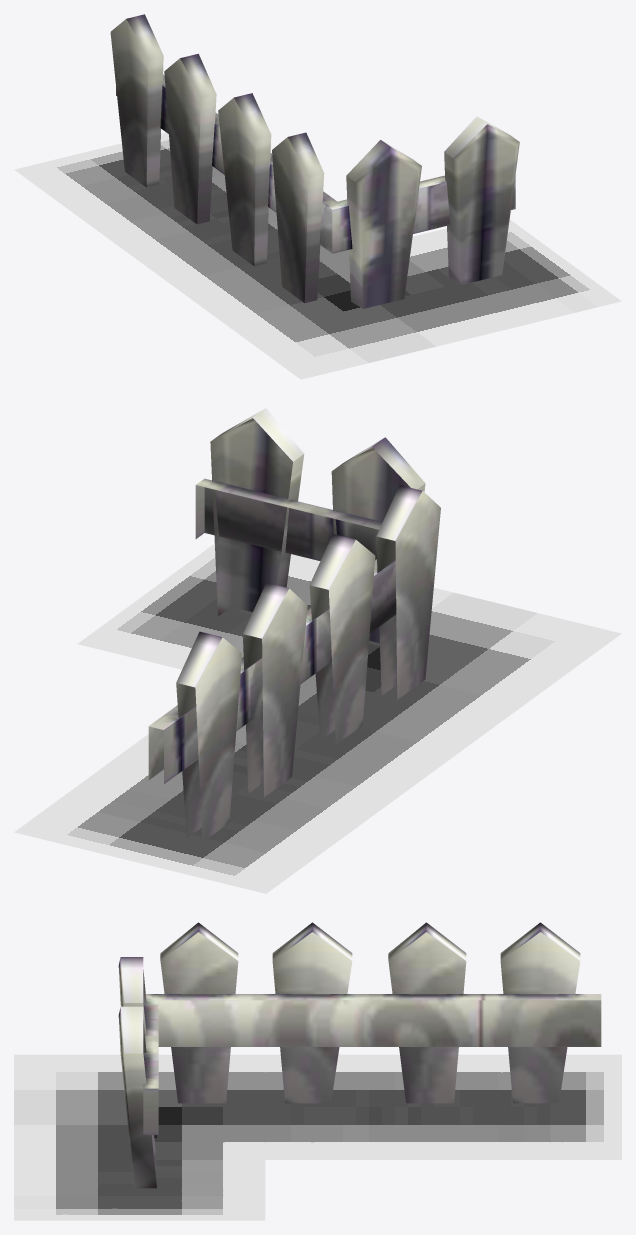
Rendered from int_fence_01.dae.
3 renders of one model, top to bottom at view 1: azimuth 30°, elevation 25°; view 2: azimuth 150°, elevation 25°; view 3: azimuth 270°, elevation 25°, orthographic. The views are drawn at different scales.
Parts seen in each view (by area): view 1: int_fence_01; view 2: int_fence_01; view 3: int_fence_01.
Boxes of the visible parts, x1,y1,x2,y2 form: int_fence_01: (14, 14, 621, 379); int_fence_01: (14, 408, 621, 893); int_fence_01: (14, 922, 621, 1220).
Size of the model in its own units: 43.91 by 22.95 by 68.
2 materials, 2 textured.
